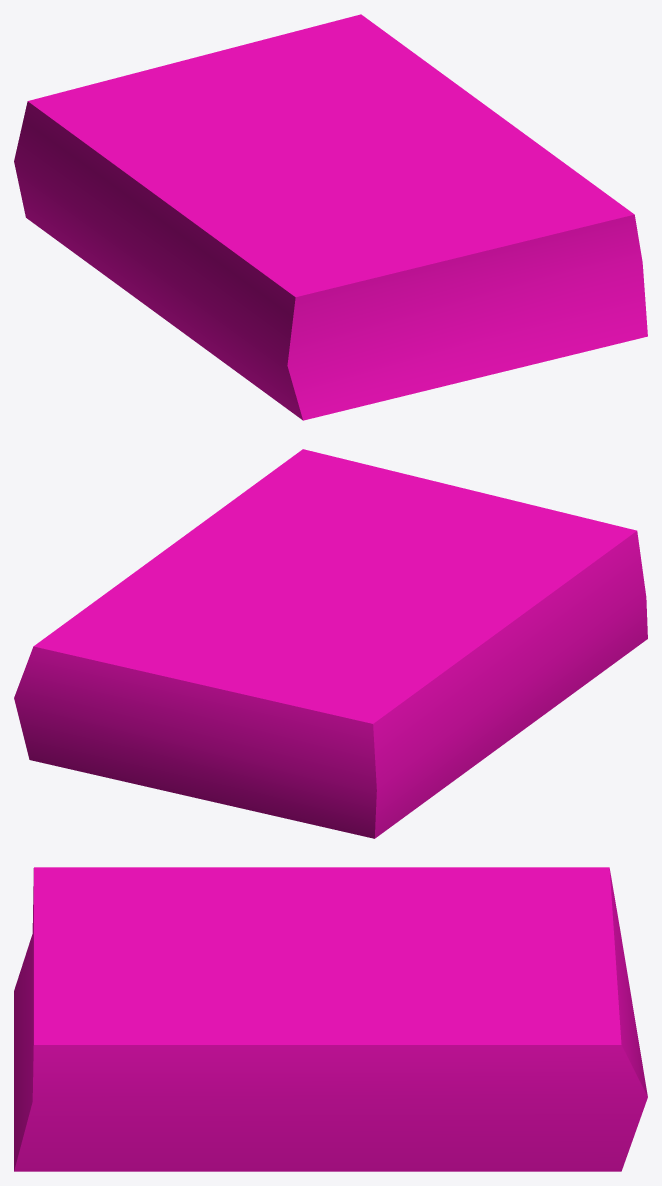
File: study_paperpile_1_meshCollider.fbx
The picture shows the model from 3 angles, top to bottom: view 1: azimuth 30°, elevation 25°; view 2: azimuth 150°, elevation 25°; view 3: azimuth 270°, elevation 25°; orthographic projection. The views are drawn at different scales.
Visible parts, largest first — view 1: study_paperpile_1_meshCollider; view 2: study_paperpile_1_meshCollider; view 3: study_paperpile_1_meshCollider.
Boxes of the visible parts, x1=… form: study_paperpile_1_meshCollider: x1=14, y1=14, x2=647, y2=420; study_paperpile_1_meshCollider: x1=14, y1=449, x2=647, y2=838; study_paperpile_1_meshCollider: x1=14, y1=867, x2=647, y2=1171.
Bounding box in the file's own units: 17.38 × 5.43 × 25.02.
